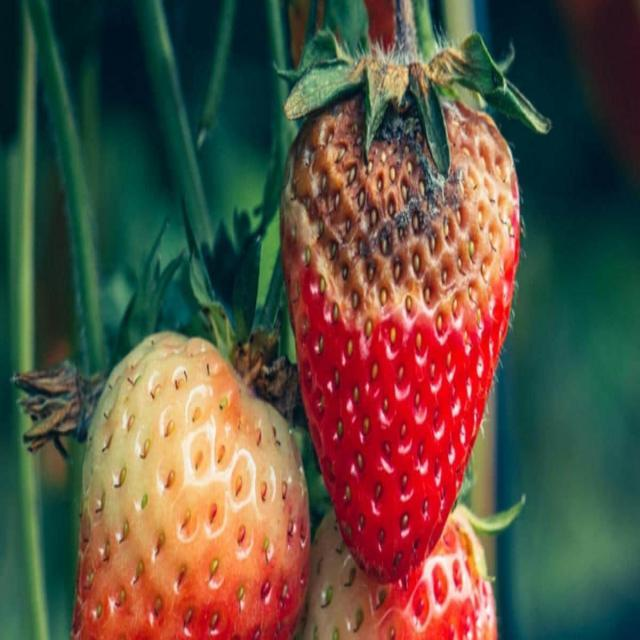Podredumbre de cuero: (262, 67, 520, 565)
